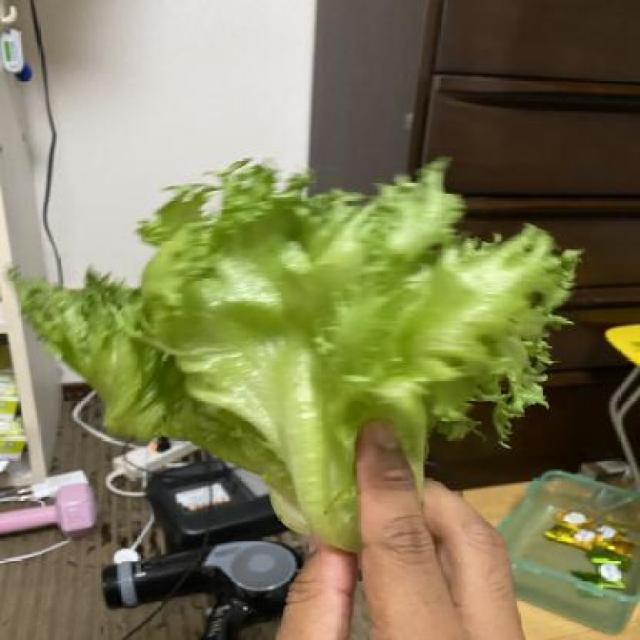Lettuce head: (12, 158, 584, 562)
